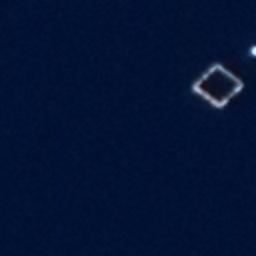square_solid: (191, 62, 245, 112)
